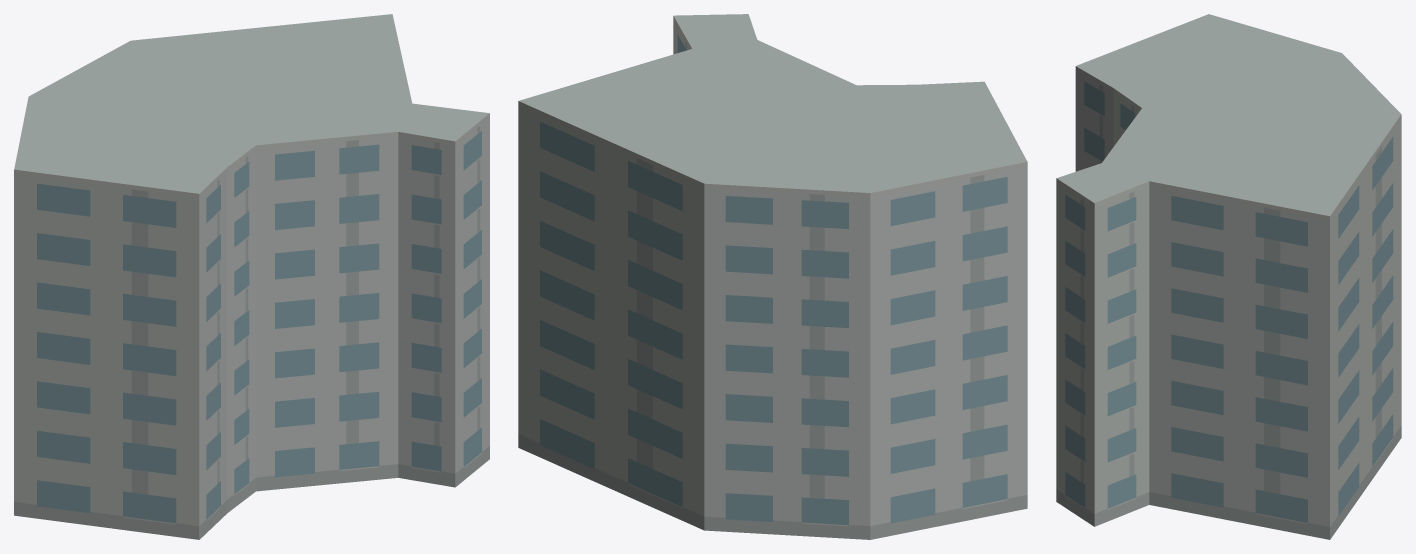
File: survey-upis-32846638.glb
The picture shows the model from 3 angles, left to right: view 1: azimuth 30°, elevation 25°; view 2: azimuth 150°, elevation 25°; view 3: azimuth 270°, elevation 25°; orthographic projection. The views are drawn at different scales.
Visible parts, largest first — view 1: survey-upis-32846638.tmp; view 2: survey-upis-32846638.tmp; view 3: survey-upis-32846638.tmp.
Boxes of the visible parts, x1,y1,x2,y2 form: survey-upis-32846638.tmp: [14, 14, 489, 539]; survey-upis-32846638.tmp: [518, 14, 1027, 539]; survey-upis-32846638.tmp: [1056, 14, 1401, 539].
Size of the model in its own units: 25.61 by 19.1 by 18.47.
